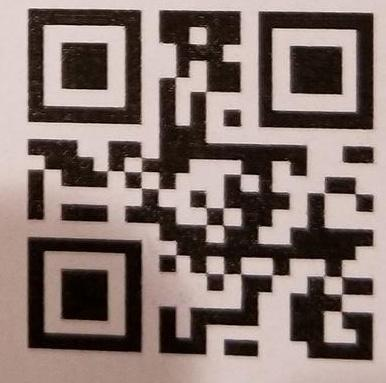qrcode: (26, 8, 375, 363)
